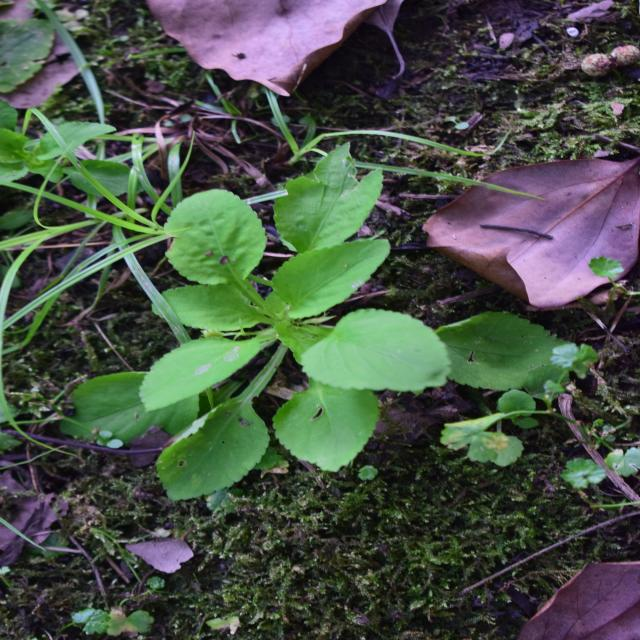Viola: (152, 107, 480, 465)
